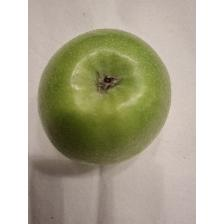Apfel: (36, 25, 174, 169)
